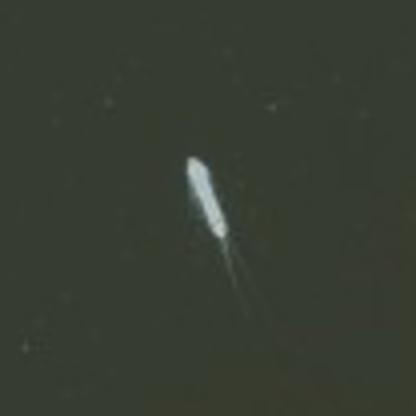ship: (176, 147, 235, 244)
